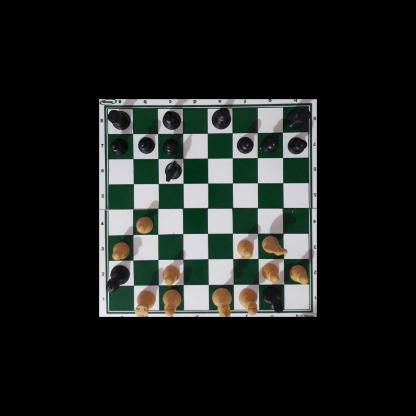black-bishop: (261, 285, 285, 314), (160, 111, 182, 130)
black-king: (210, 106, 232, 130)
black-knight: (164, 160, 181, 180)
black-pawn: (287, 135, 306, 154), (110, 137, 128, 154), (137, 136, 154, 154), (262, 135, 279, 152), (237, 135, 253, 153), (163, 136, 179, 154)
black-queen: (106, 264, 130, 293)
black-rook: (286, 104, 309, 128), (106, 107, 130, 130)
white-bishop: (238, 288, 258, 316), (162, 289, 182, 317)
white-king: (212, 287, 232, 317)
white-knight: (260, 235, 288, 256)
white-pawn: (260, 261, 280, 283), (134, 214, 154, 234), (161, 264, 180, 284), (289, 264, 308, 283), (111, 241, 130, 260), (236, 238, 253, 258)
white-rook: (134, 290, 156, 317)
